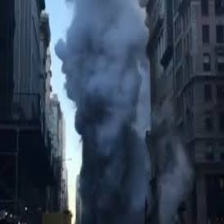smoke: (55, 1, 175, 218)
